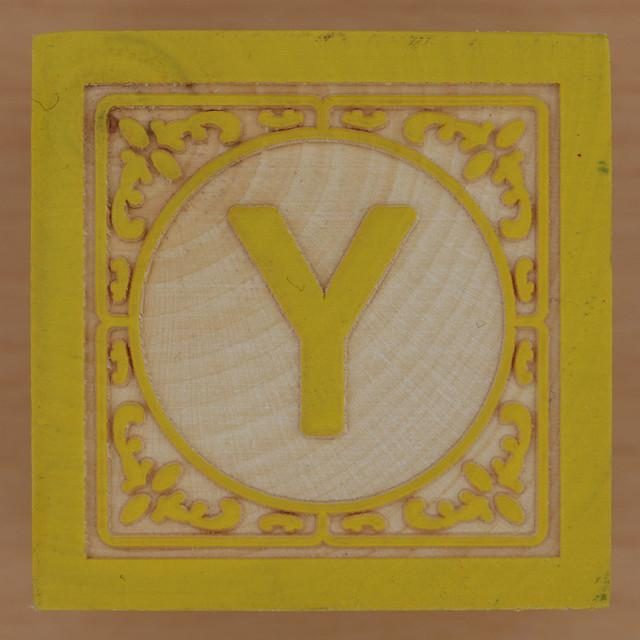Y: (218, 186, 435, 474)
